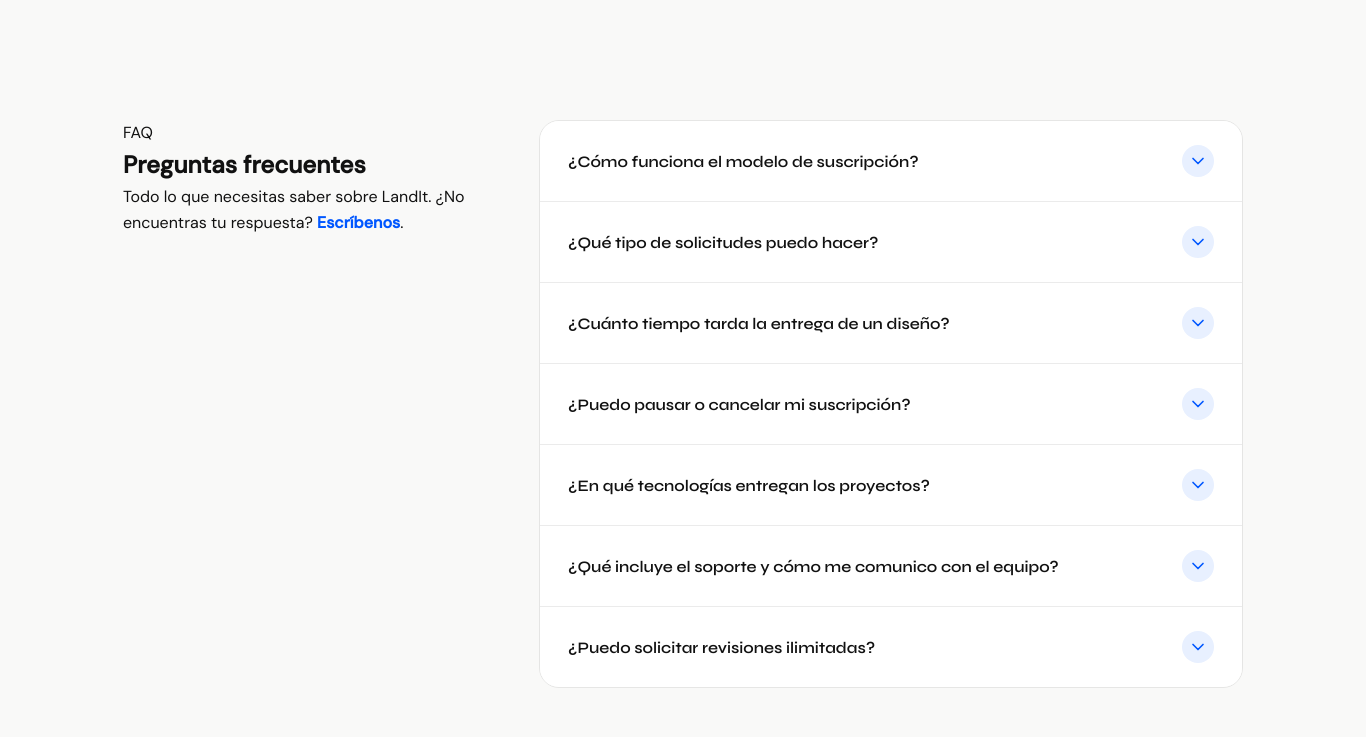
FAQSection › clicking the same open question closes it
Click the button "¿Cómo funciona el modelo de suscripción?": click(891, 161) top-left (540, 121), bottom-right (1242, 201)
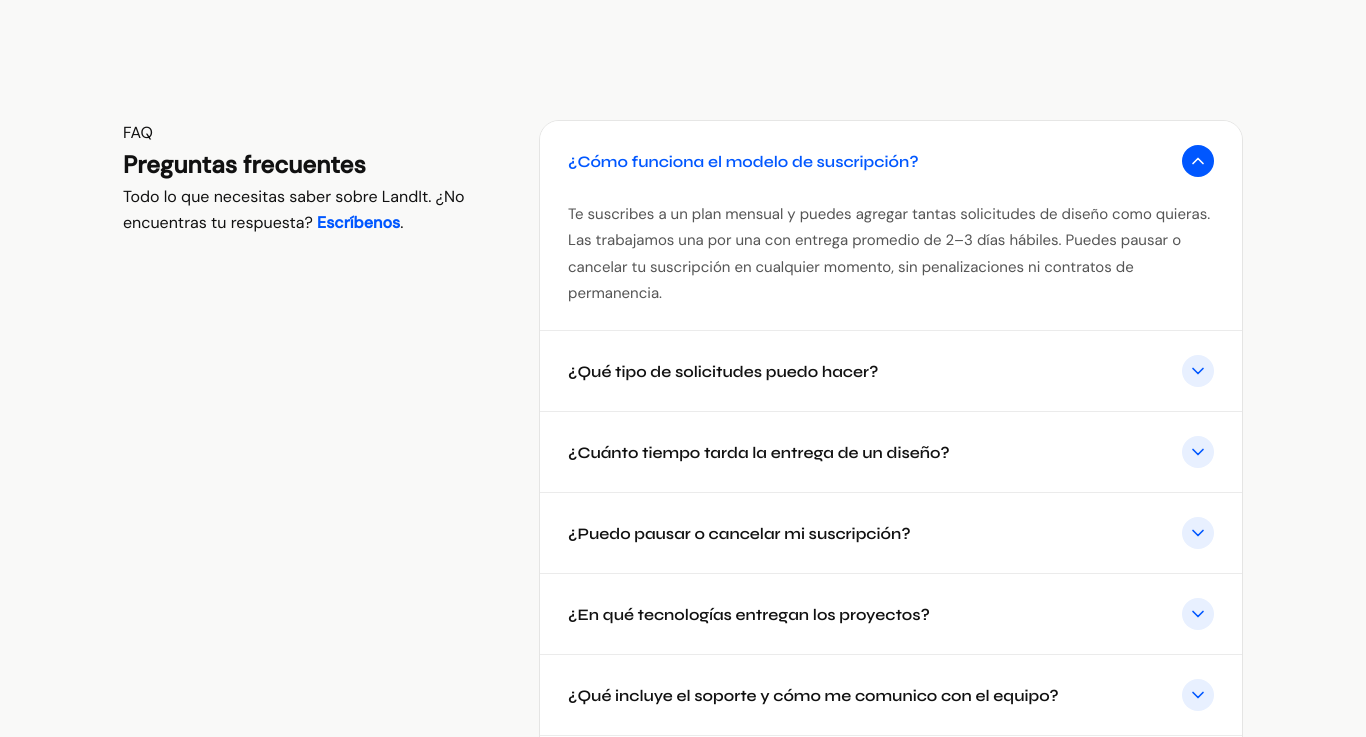
Result: the button "¿Cómo funciona el modelo de suscripción?" is expanded
Click the button "¿Cómo funciona el modelo de suscripción?": click(891, 161) top-left (540, 121), bottom-right (1242, 201)
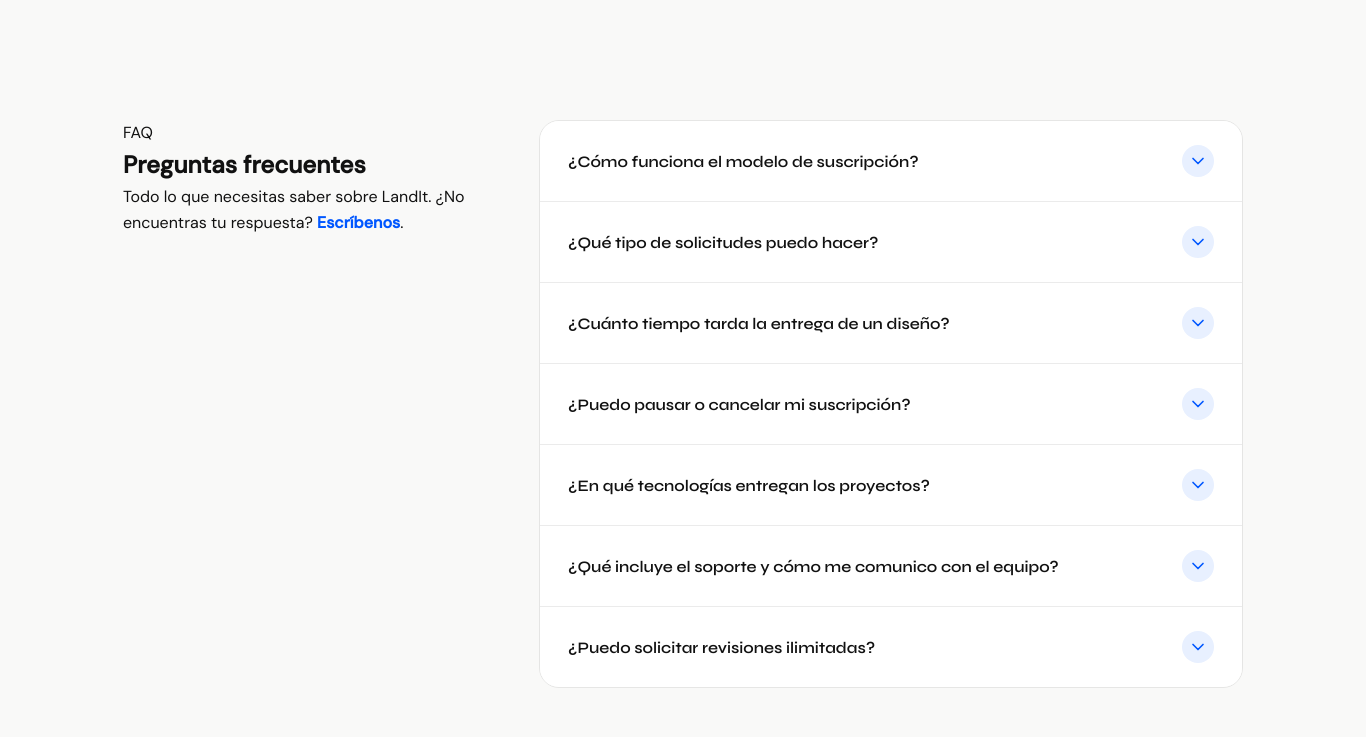
Result: the button "¿Cómo funciona el modelo de suscripción?" is collapsed at top-left (540, 121), bottom-right (1242, 201)
